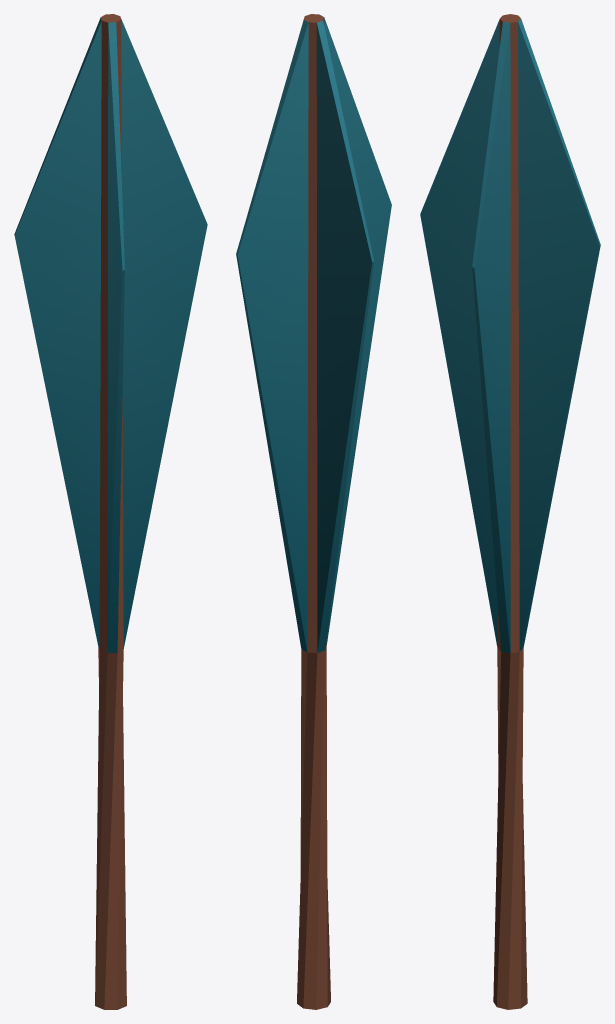
Rendered from Tree_29_gradient_blue_vc.fbx.
3 renders of one model, left to right at view 1: azimuth 30°, elevation 25°; view 2: azimuth 150°, elevation 25°; view 3: azimuth 270°, elevation 25°, orthographic.
Parts seen in each view (by area): view 1: Tree_29_gradient_blue_vc; view 2: Tree_29_gradient_blue_vc; view 3: Tree_29_gradient_blue_vc.
Boxes of the visible parts, bbox=[...] form: Tree_29_gradient_blue_vc: bbox=[14, 14, 207, 1009]; Tree_29_gradient_blue_vc: bbox=[236, 14, 391, 1009]; Tree_29_gradient_blue_vc: bbox=[420, 14, 600, 1009].
Size of the model in its own units: 48.99 by 294 by 48.99.
